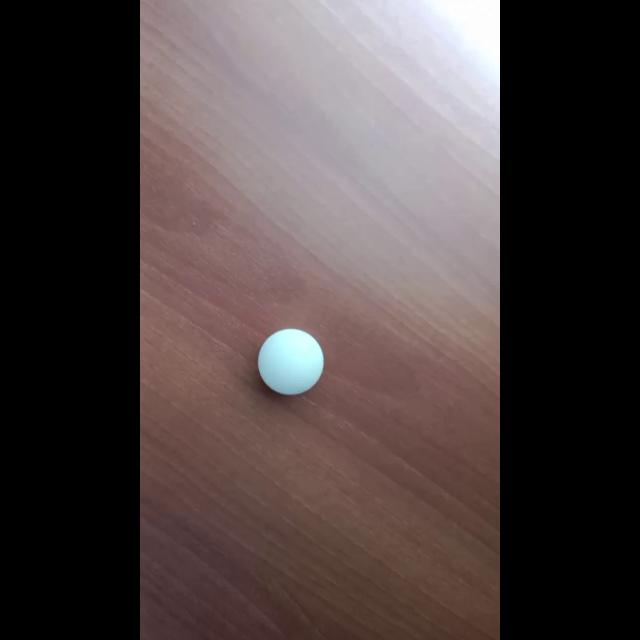white ball: (256, 328, 324, 396)
